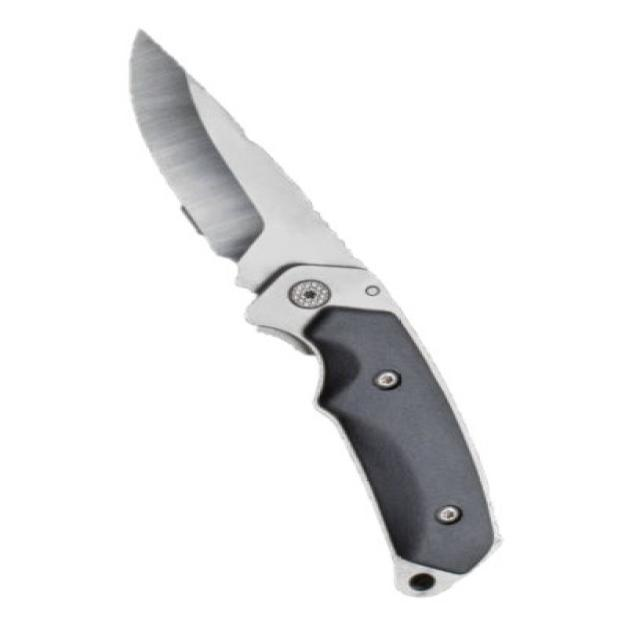knife: (124, 29, 515, 601)
